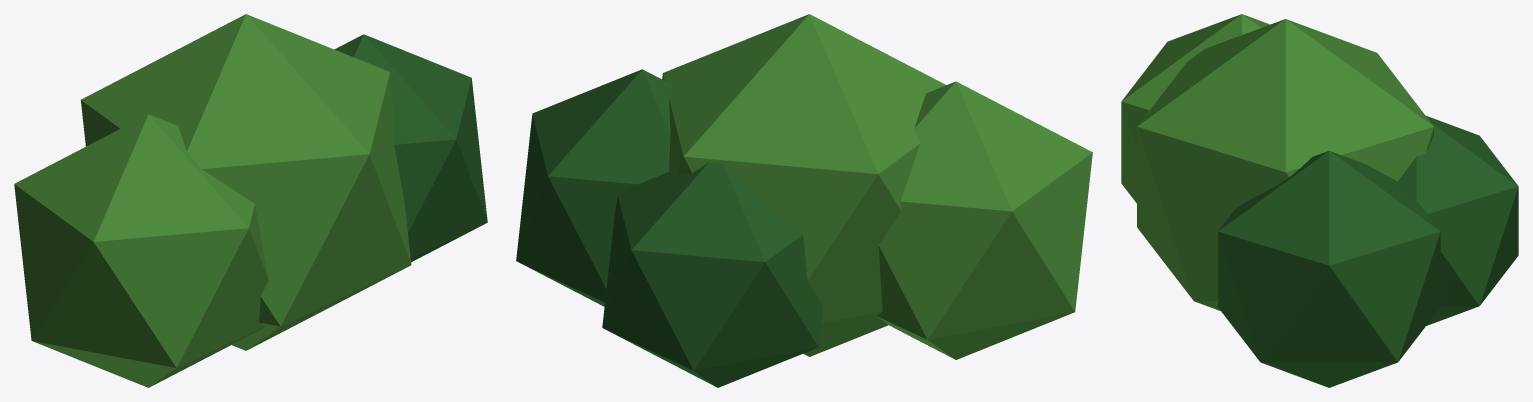
Rendered from SM_GZ_bush.fbx.
3 renders of one model, left to right at view 1: azimuth 30°, elevation 25°; view 2: azimuth 150°, elevation 25°; view 3: azimuth 270°, elevation 25°, orthographic. The views are drawn at different scales.
Visible parts, largest first — view 1: SM_GZ_bush; view 2: SM_GZ_bush; view 3: SM_GZ_bush.
Boxes of the visible parts, x1=… form: SM_GZ_bush: x1=14, y1=14, x2=487, y2=387; SM_GZ_bush: x1=516, y1=14, x2=1092, y2=387; SM_GZ_bush: x1=1121, y1=14, x2=1518, y2=387.
Size of the model in its own units: 242 by 160 by 182.
